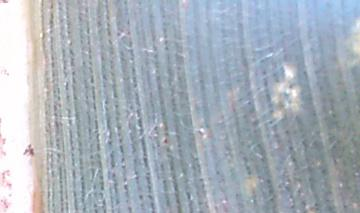tarspot: (20, 141, 37, 159), (160, 134, 168, 145)
